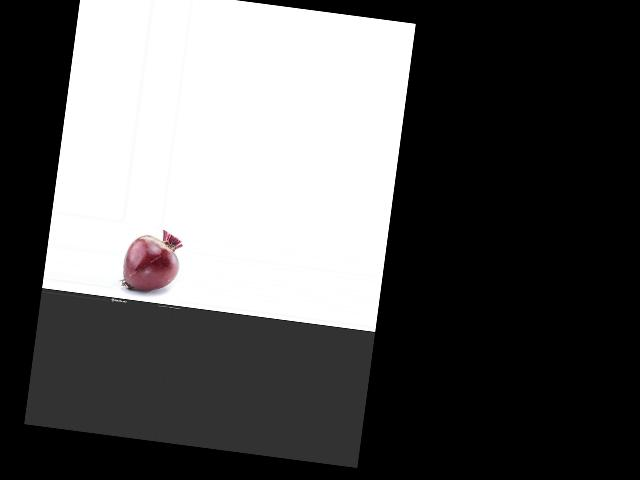beet: (120, 225, 184, 294)
